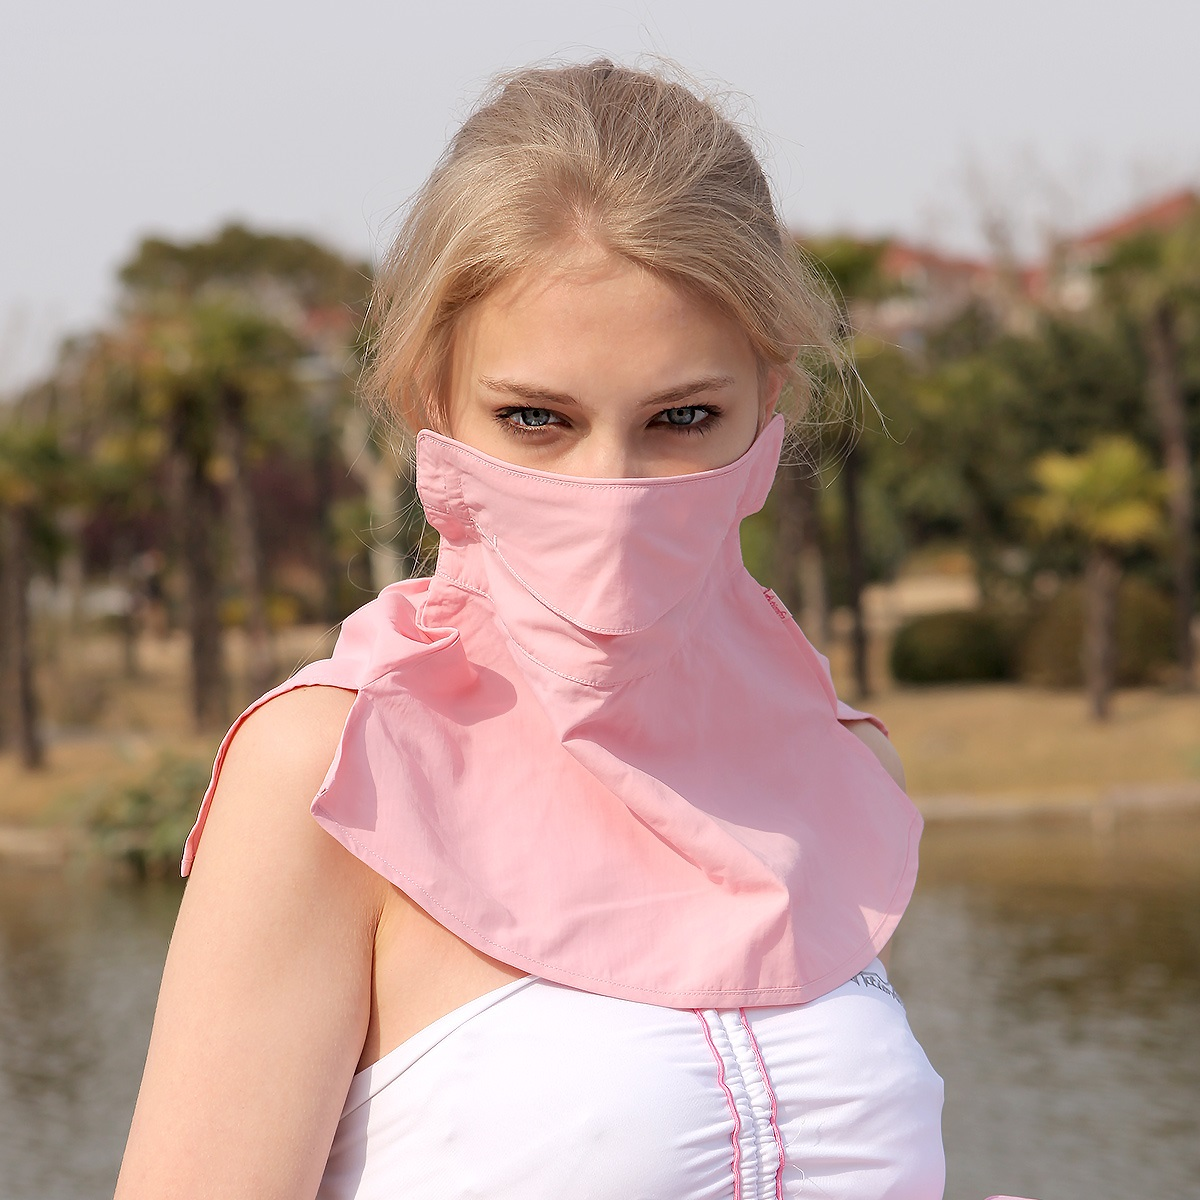face_mask: (441, 242, 762, 640)
